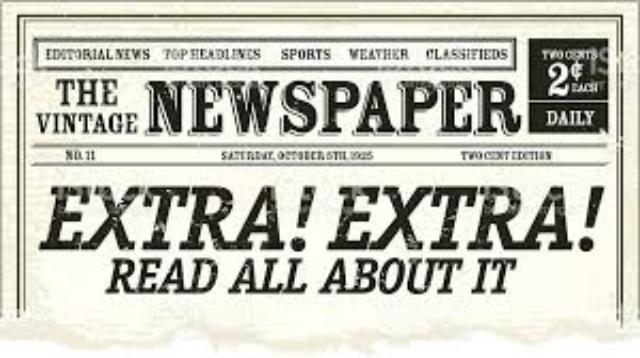cardboard paper: (3, 1, 639, 358)
